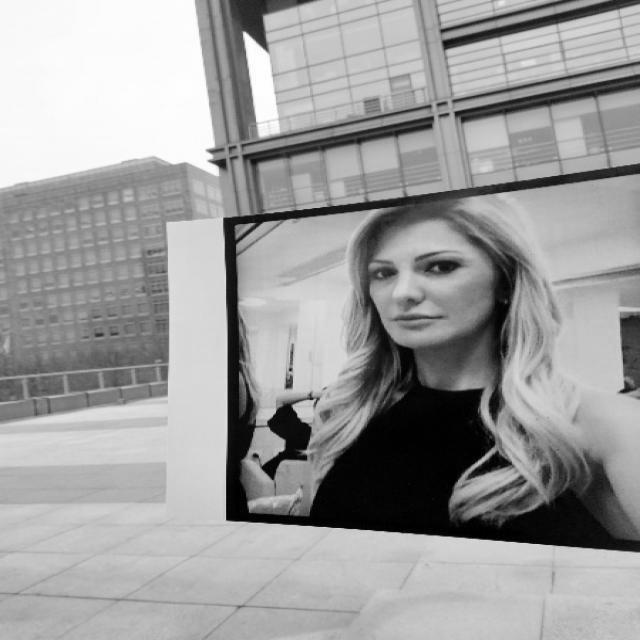fake: (152, 168, 640, 558)
